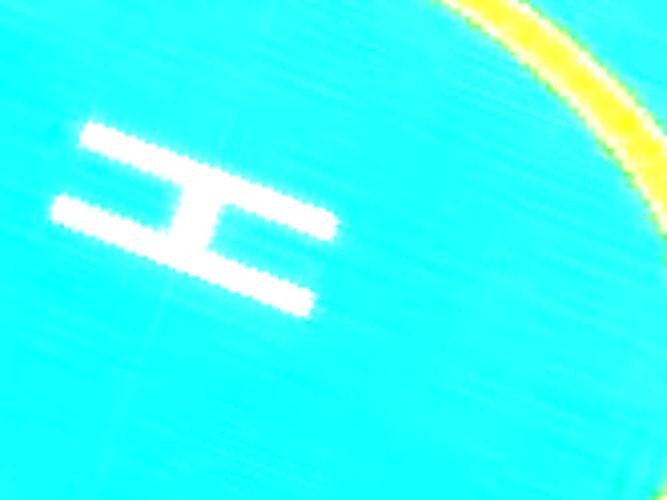Apron: (1, 1, 665, 496)
